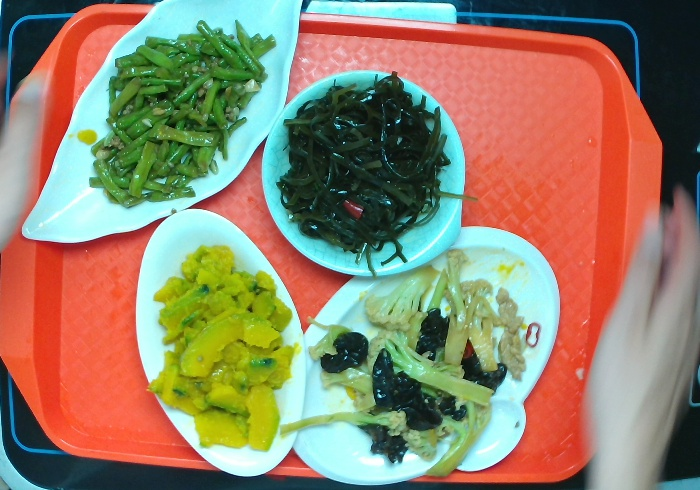RJxy-Bai_Se_Tuo_Yuan: (133, 206, 307, 479)
RJxy-Shu_Ye_Pan: (18, 1, 306, 243)
RJxy-Xiao_Jiao_Yuan_Wan: (259, 66, 467, 276)
RJxy-Zhan_Liao_Pan: (285, 222, 564, 488)
